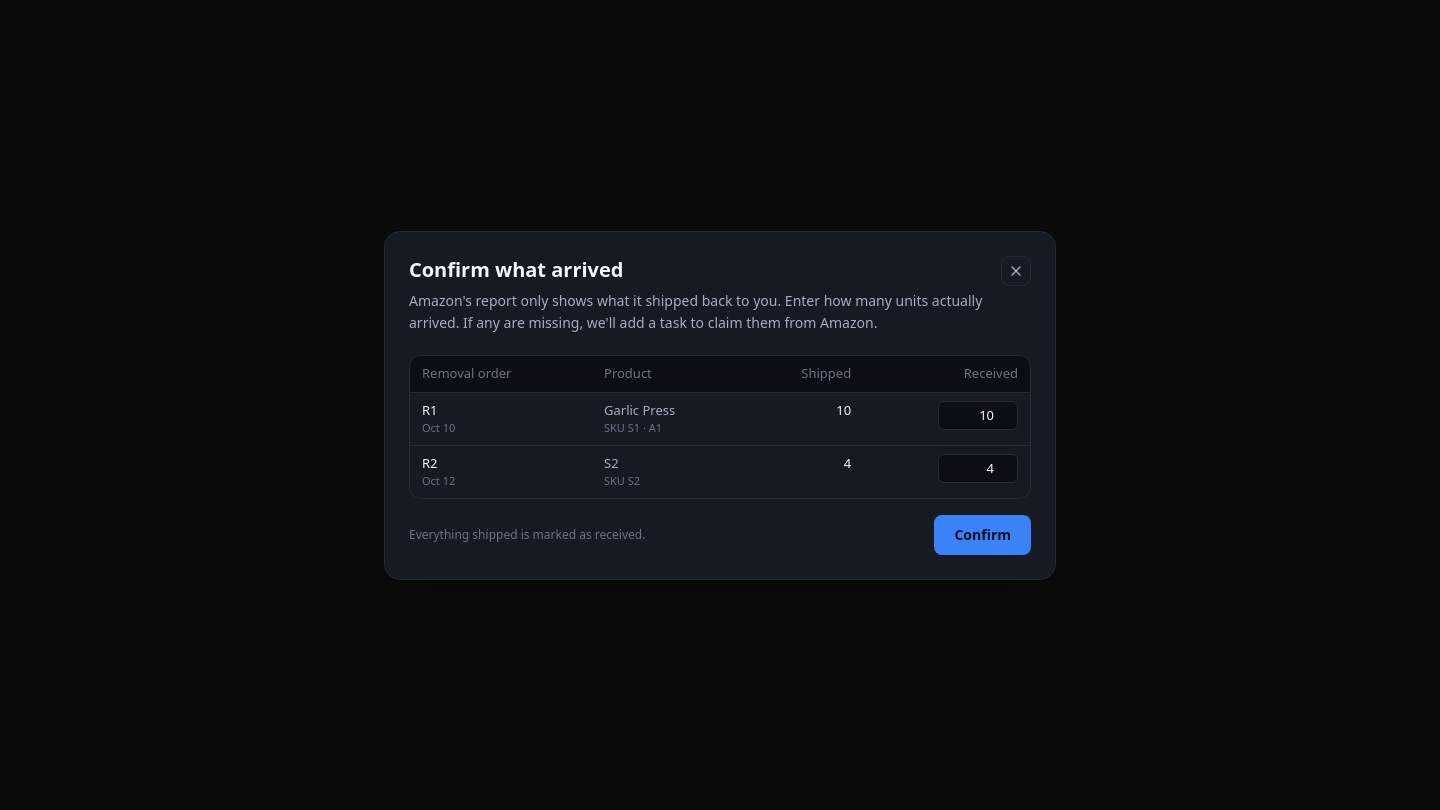
it: RemovalReceiptModal › sends every line, says what is missing, and reports back so the task can be ticked off
This screenshot has width=1440, height=810.
Expected: the text "Garlic Press" is shown, [604,400,675,418]
Step 1. Replace the text in the number field named "Units received for order R1, SKU S1" with "7" → (978, 415), box [938,400,1018,430]
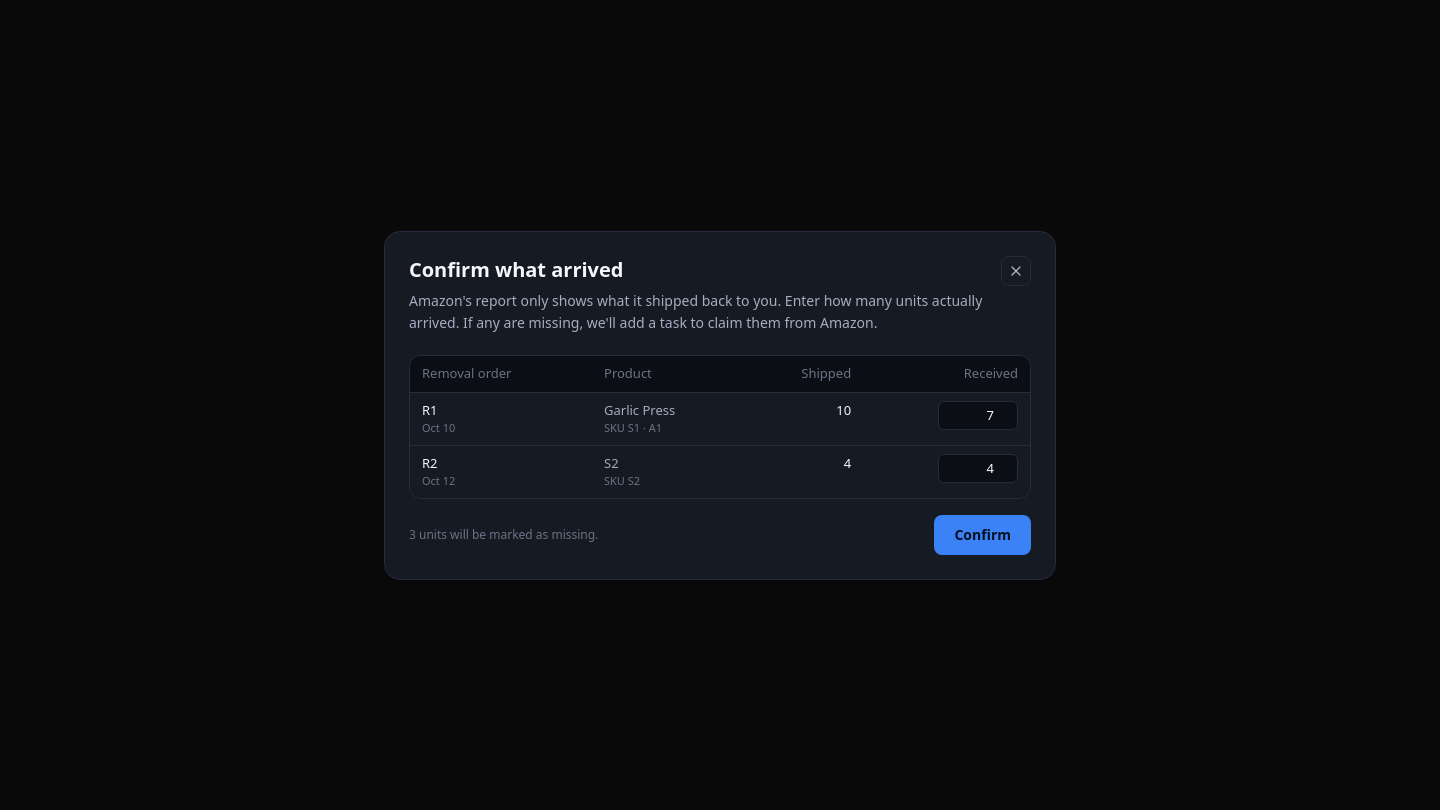
Result: the text "3 units will be marked as missing." is shown at [409,526,598,542]
Step 2. Click the button "Confirm" → (983, 534), box [934,514,1031,554]
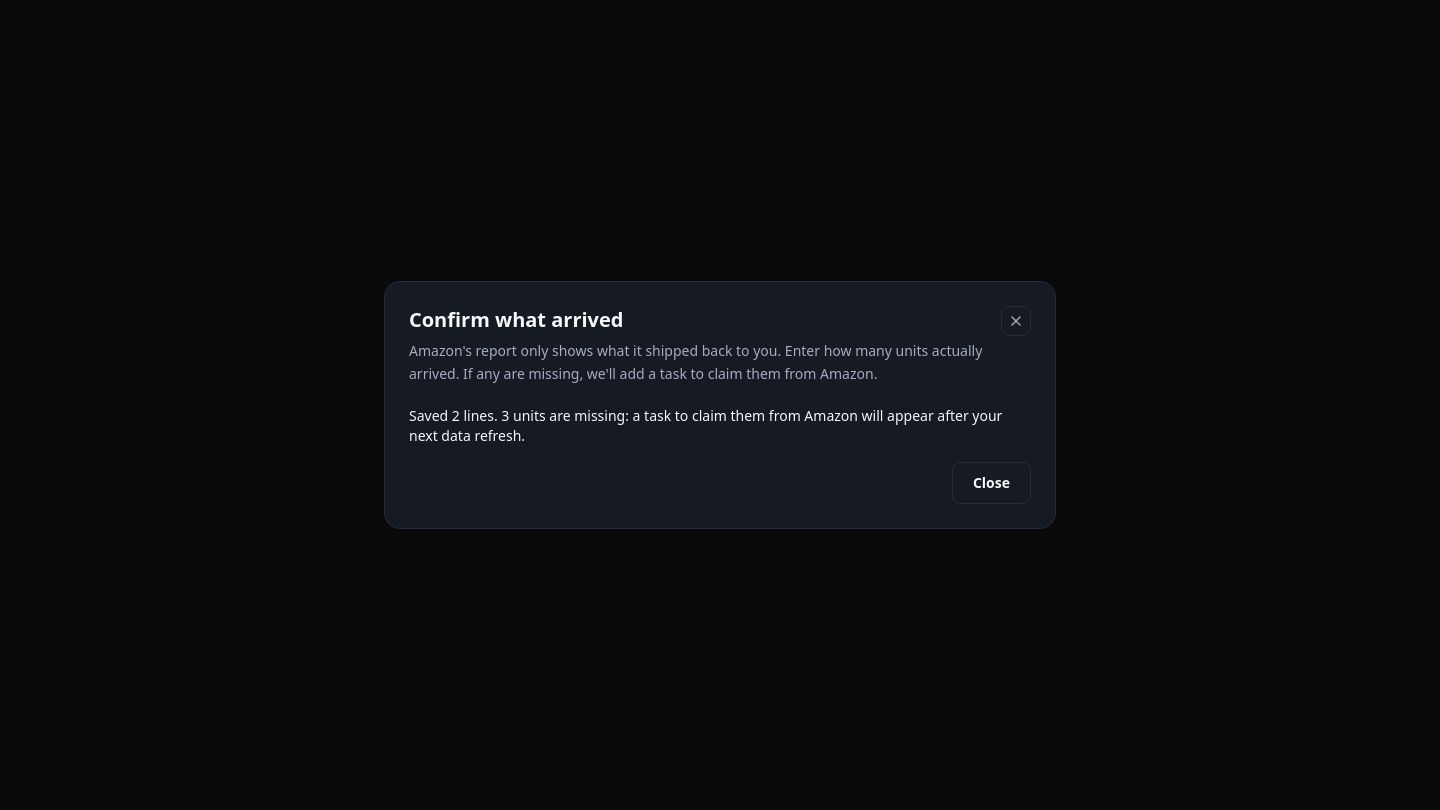
Result: the message shows "3 units are missing" at [409,406,1002,445]
